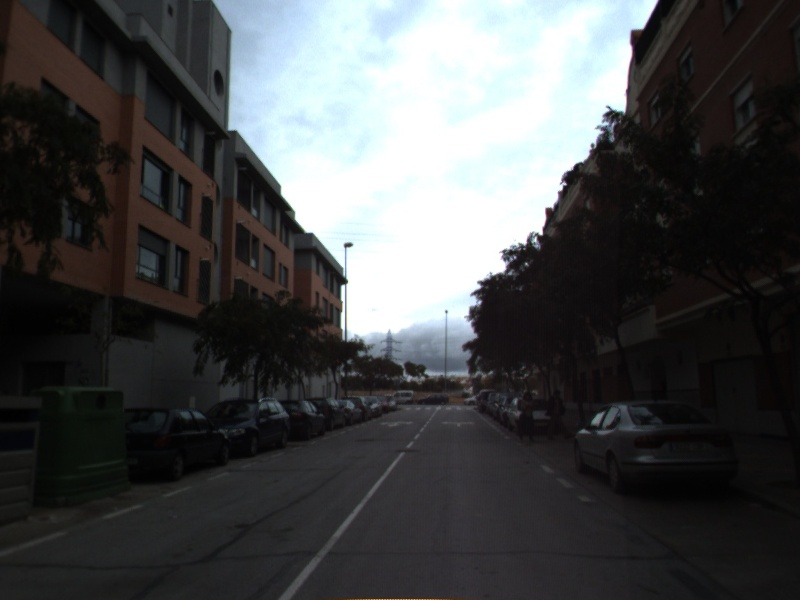LEFT_RIGHT: (438, 418, 478, 429)
